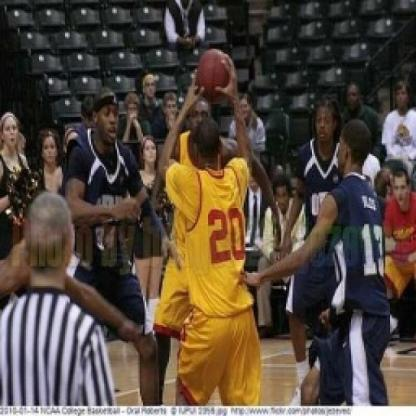basketball: (191, 48, 240, 96)
